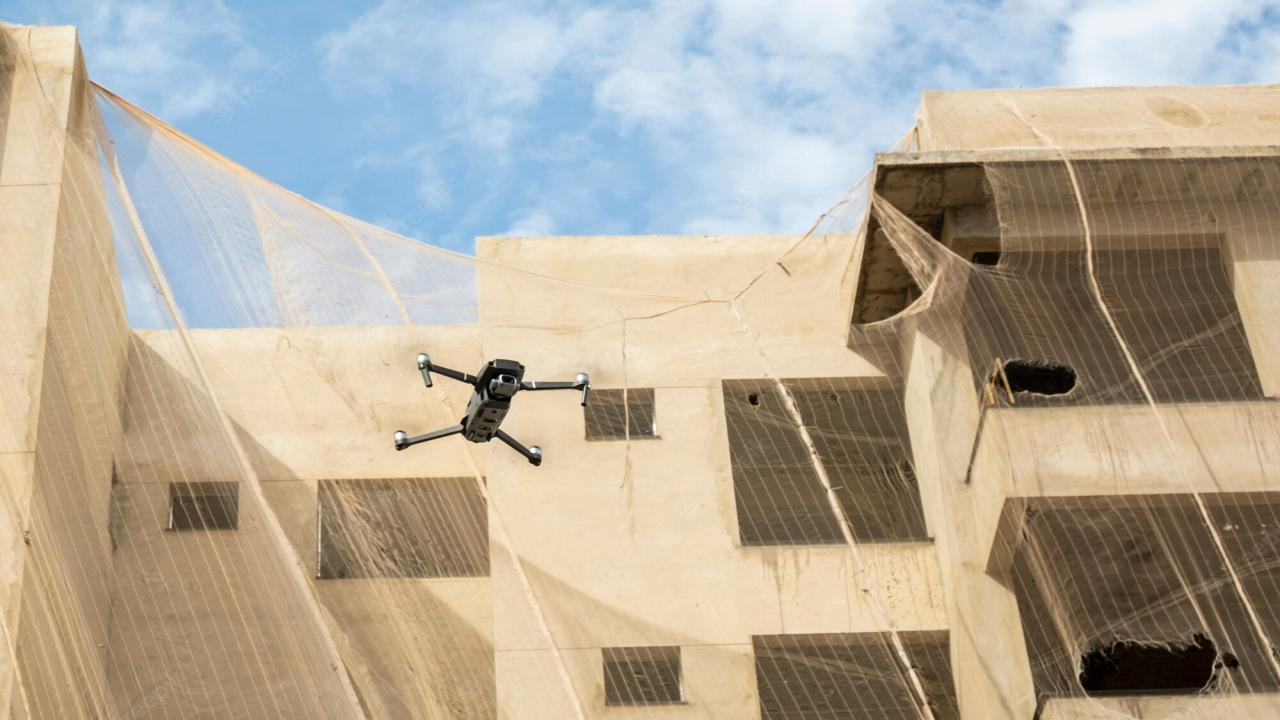Drone: (375, 324, 608, 480)
